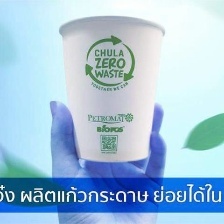paper_cup: (54, 11, 169, 165)
